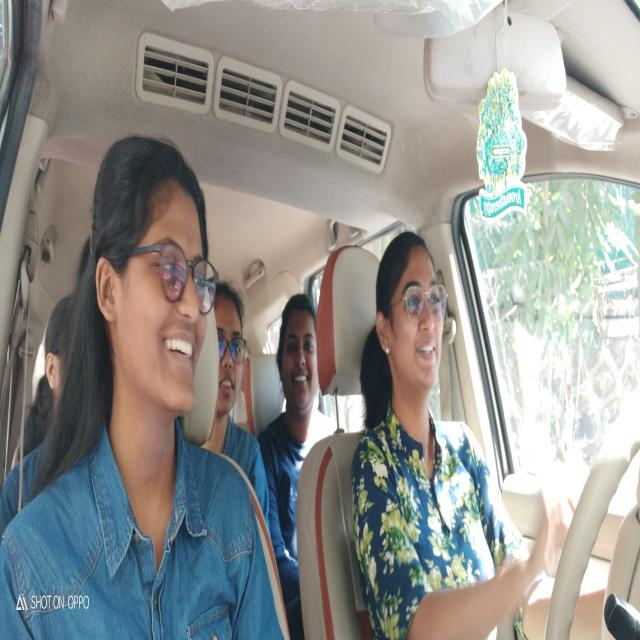person: (96, 156, 202, 413), (377, 245, 448, 398), (278, 302, 318, 414), (216, 296, 244, 411), (41, 303, 64, 395)
